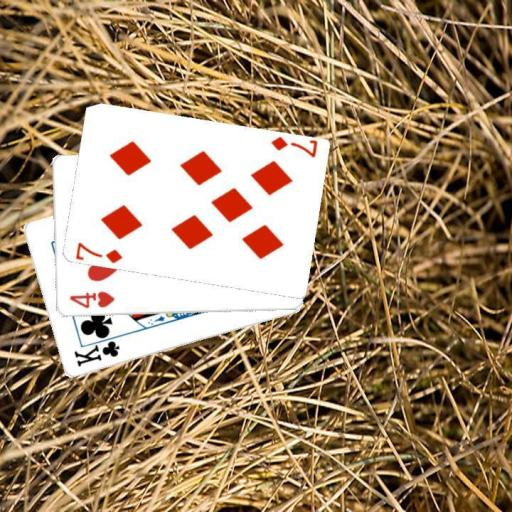card-corner: (70, 332, 122, 368), (267, 134, 318, 160), (72, 240, 124, 264), (66, 288, 115, 310)
